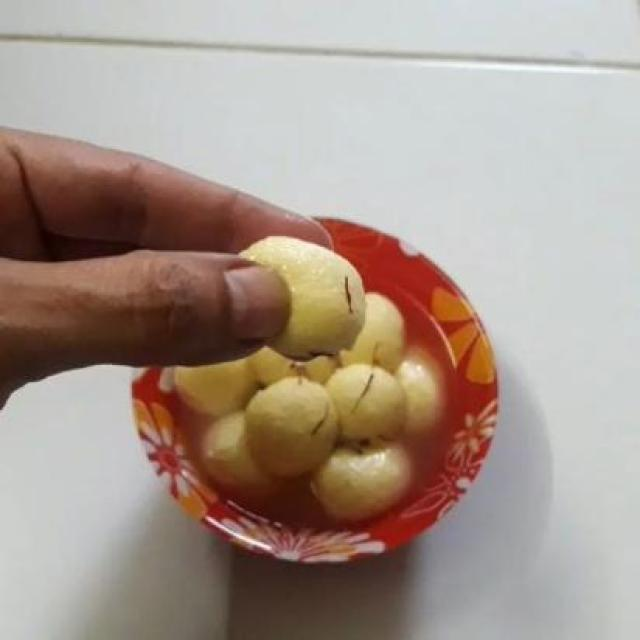rasgulla: (238, 237, 364, 358), (245, 374, 338, 478), (316, 444, 420, 524), (327, 366, 402, 439), (174, 352, 256, 418), (388, 352, 444, 439), (346, 290, 404, 372), (200, 420, 264, 483)
